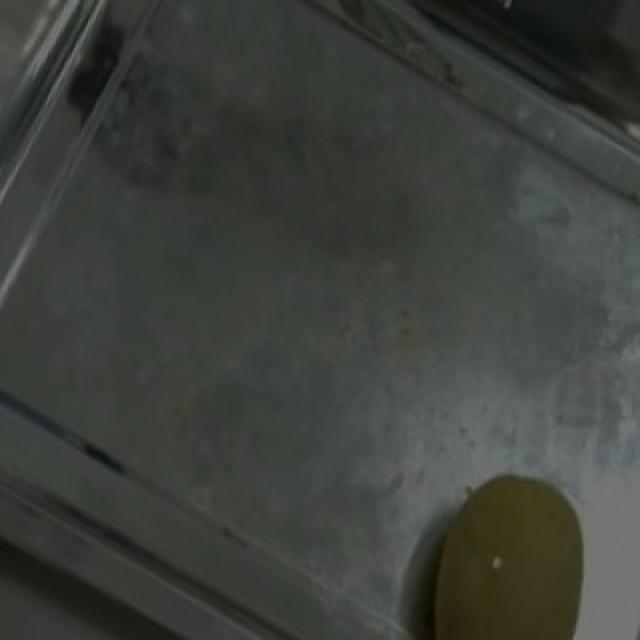Fruit: (392, 454, 624, 640)
